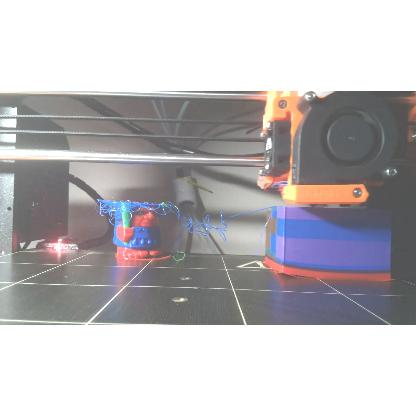fail: (161, 202, 261, 242), (97, 197, 141, 219)
